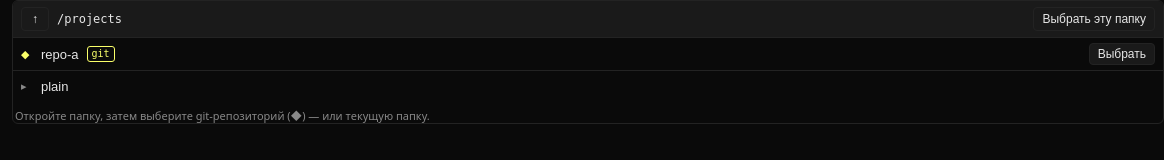
Scenario: RepoPicker › navigates into a folder when its row is clicked
The width and height of the screenshot is (1164, 160).
Click the button with class "rp-name" showing "▸ plain".
click(24, 86)  # box x1=21 y1=71 x2=1155 y2=102
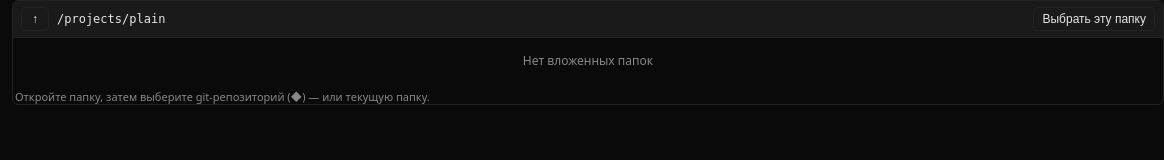
Now the text with test id "rp-path" reads "/projects/plain", box x1=57 y1=12 x2=165 y2=26
Now the text "Нет вложенных папок" is shown, box x1=523 y1=52 x2=653 y2=69
